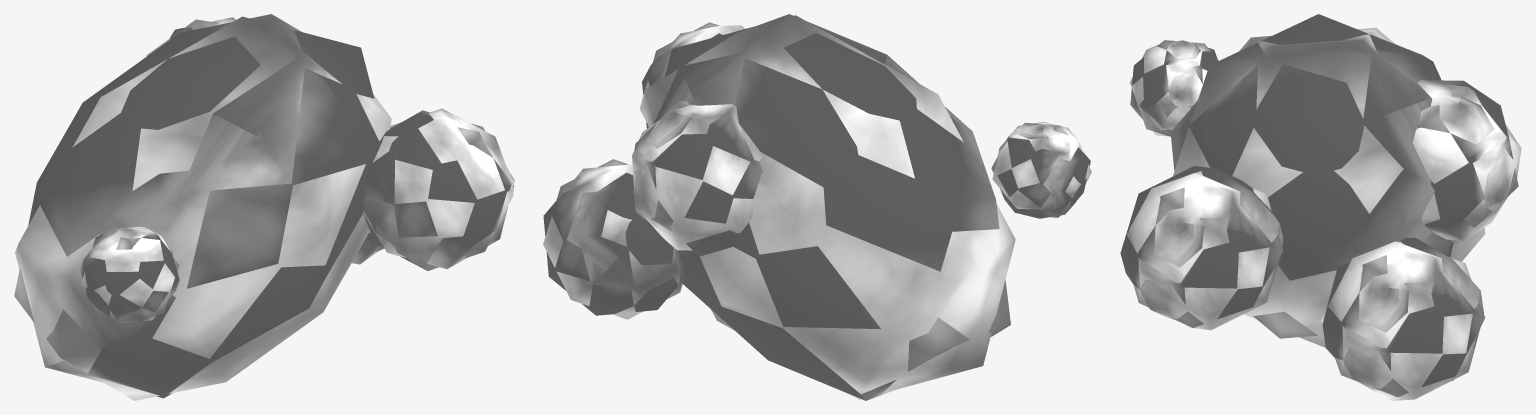
File: smokeball.glb
3 views of the same model, side by side, from view 1: azimuth 30°, elevation 25°; view 2: azimuth 150°, elevation 25°; view 3: azimuth 270°, elevation 25° (orthographic). The views are drawn at different scales.
Visible parts, largest first — view 1: Sphere.005, Sphere.004, Sphere.003, Sphere.002, Sphere.001; view 2: Sphere.005, Sphere.002, Sphere.001, Sphere.003, Sphere.004; view 3: Sphere.005, Sphere.004, Sphere.001, Sphere.002, Sphere.003.
Boxes of the visible parts, left/top/right/bottom form: Sphere.005: left=14, top=14, right=391, bottom=400; Sphere.004: left=363, top=108, right=514, bottom=270; Sphere.003: left=80, top=226, right=179, bottom=322; Sphere.002: left=146, top=17, right=235, bottom=56; Sphere.001: left=352, top=231, right=383, bottom=264; Sphere.005: left=644, top=14, right=1015, bottom=400; Sphere.002: left=632, top=101, right=763, bottom=255; Sphere.001: left=543, top=159, right=682, bottom=319; Sphere.003: left=991, top=122, right=1091, bottom=218; Sphere.004: left=639, top=22, right=745, bottom=128; Sphere.005: left=1170, top=14, right=1485, bottom=347; Sphere.004: left=1120, top=166, right=1283, bottom=330; Sphere.001: left=1321, top=237, right=1485, bottom=400; Sphere.002: left=1413, top=80, right=1521, bottom=241; Sphere.003: left=1130, top=40, right=1218, bottom=136.
Bounding box in the file's own units: 6.07 × 4.47 × 4.76.
Materials: 1 (1 with a texture image).
